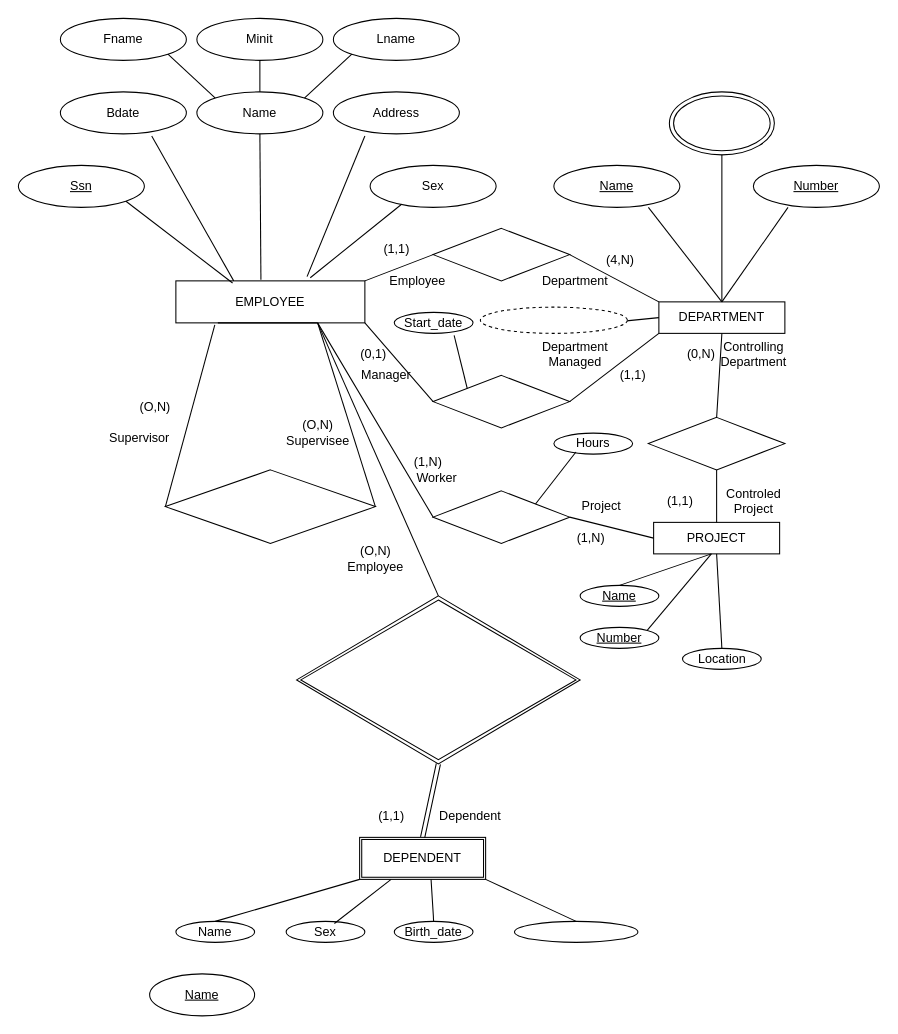
This 898x1034 diagram has some shape labels left out. The centre of each missing label's shape, as x and y in pixels:
"CONTROLS" belongs at (716,443).
"DEPENDS_OF" belongs at (438,679).
"Locations" belongs at (721,123).
"MANAGES" belongs at (501,401).
"Number_of_employees" belongs at (553,319).
"Relationship" belongs at (575,931).
"SUPERVISION" belongs at (269,506).
"WORKS_FOR" belongs at (501,254).
"WORKS_ON" belongs at (501,516).
